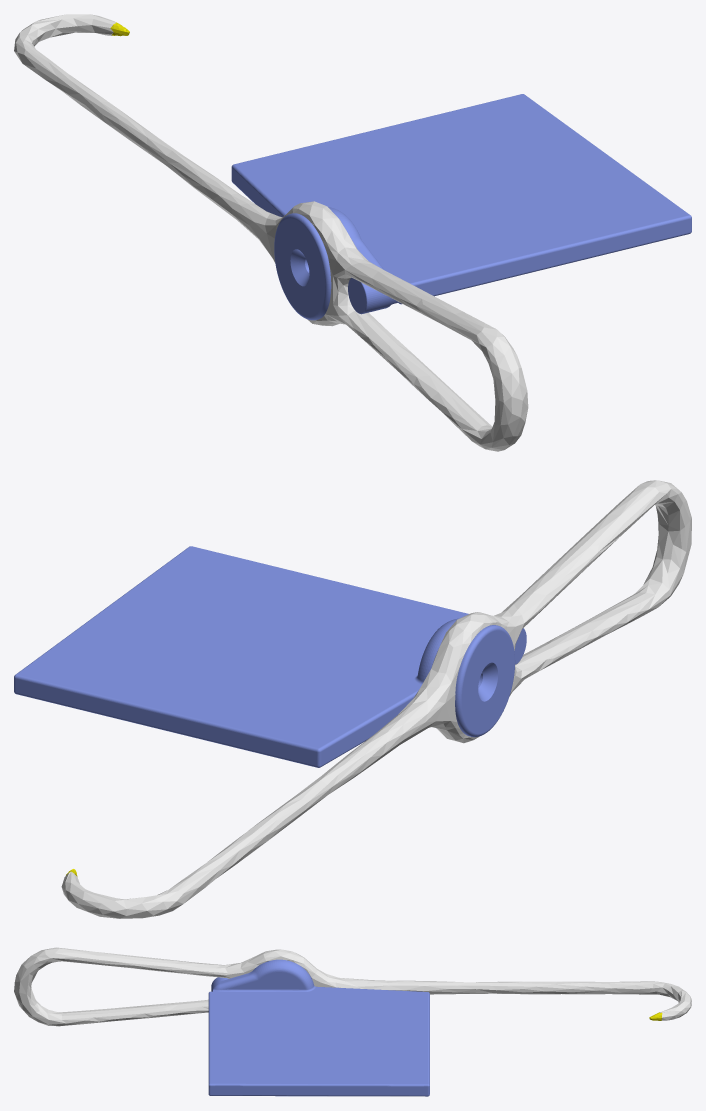
The model's file is Stromeyer.fbx.
3 views of the same model, one above another, from view 1: azimuth 30°, elevation 25°; view 2: azimuth 150°, elevation 25°; view 3: azimuth 270°, elevation 25° (orthographic). The views are drawn at different scales.
Parts seen in each view (by area): view 1: Stromeyer Platte, Instrument Stromeyer Haken Big Body, Stromeyer Spannplatte; view 2: Stromeyer Platte, Instrument Stromeyer Haken Big Body, Stromeyer Spannplatte; view 3: Stromeyer Platte, Instrument Stromeyer Haken Big Body.
Part boxes in pixels (box(x1,y1,x2,y2)): Stromeyer Platte: box(231, 94, 691, 314); Instrument Stromeyer Haken Big Body: box(14, 14, 528, 451); Stromeyer Spannplatte: box(274, 213, 331, 320); Stromeyer Platte: box(14, 546, 526, 767); Instrument Stromeyer Haken Big Body: box(61, 480, 691, 918); Stromeyer Spannplatte: box(455, 625, 515, 737); Stromeyer Platte: box(208, 959, 429, 1096); Instrument Stromeyer Haken Big Body: box(14, 947, 691, 1026).
Size of the model in its own units: 9254 by 3059 by 24503.
